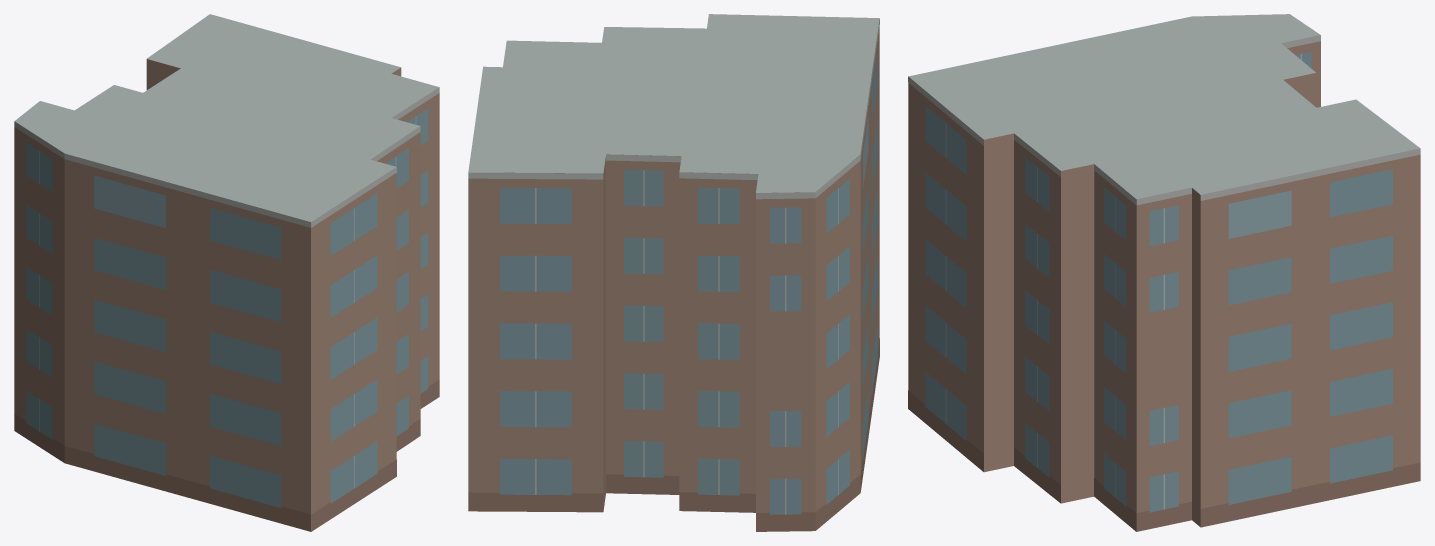
Rendered from survey-upis-32724287.glb.
3 views of the same model, side by side, from view 1: azimuth 30°, elevation 25°; view 2: azimuth 150°, elevation 25°; view 3: azimuth 270°, elevation 25° (orthographic). The views are drawn at different scales.
Visible parts, largest first — view 1: survey-upis-32724287.tmp; view 2: survey-upis-32724287.tmp; view 3: survey-upis-32724287.tmp.
Part boxes in pixels (x1,y1,x2,y2): survey-upis-32724287.tmp: (14,14,439,531); survey-upis-32724287.tmp: (468,14,879,531); survey-upis-32724287.tmp: (908,14,1420,531).
Bounding box in the file's own units: 15.91 × 13.3 × 18.58.
